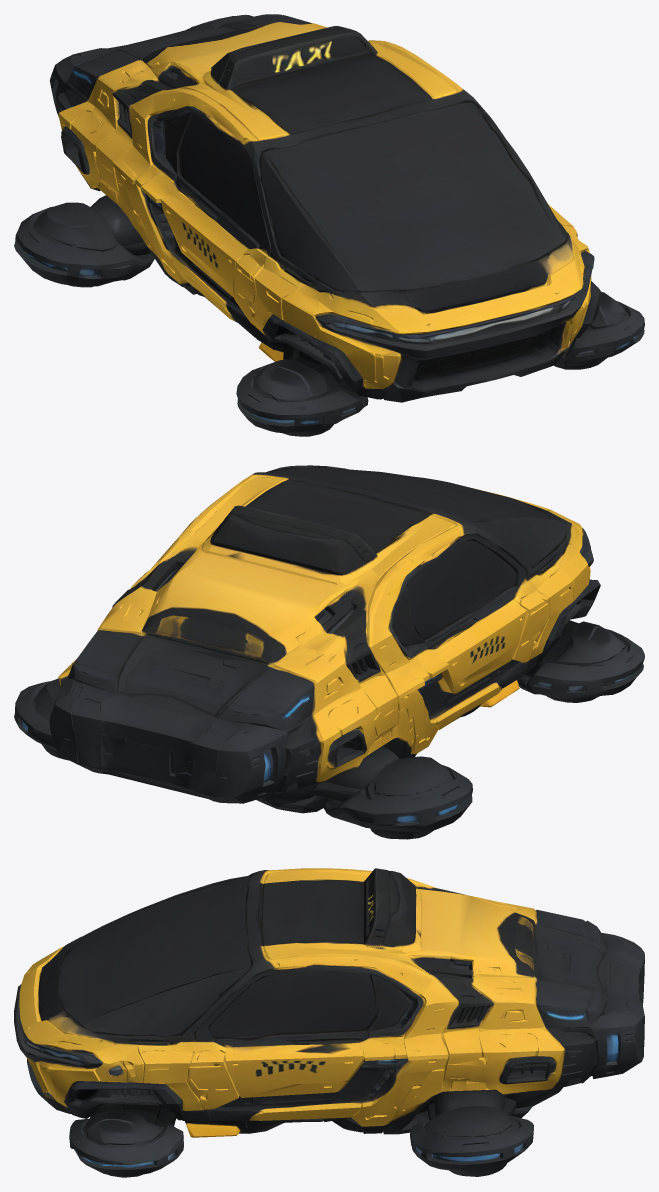
The picture shows the model from 3 angles, top to bottom: view 1: azimuth 30°, elevation 25°; view 2: azimuth 150°, elevation 25°; view 3: azimuth 270°, elevation 25°; orthographic projection. The views are drawn at different scales.
Visible parts, largest first — view 1: model; view 2: model; view 3: model.
Boxes of the visible parts, x1,y1,x2,y2 form: model: (14, 14, 644, 436); model: (14, 465, 644, 839); model: (14, 868, 644, 1177).
Size of the model in its own units: 1.36 by 0.7209 by 1.9.
Materials: 1 (1 with a texture image).
